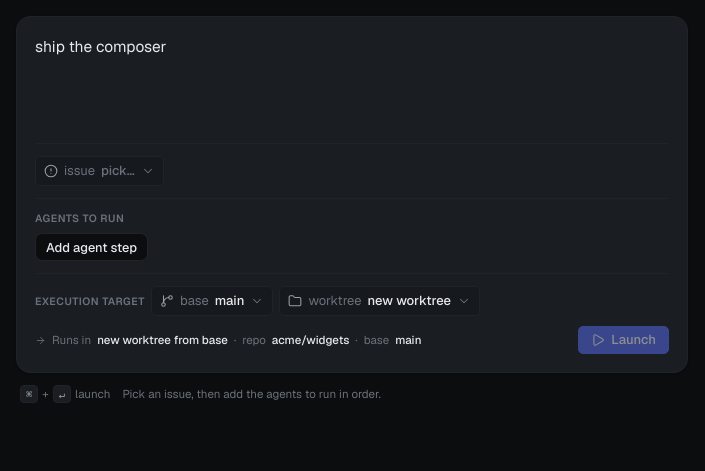
Test: LaunchComposer › reflects the override choice in the destination preview
Step 1. Click the button with aria-label "Worktree strategy: new worktree" → (380, 301), box x1=279 y1=286 x2=480 y2=316
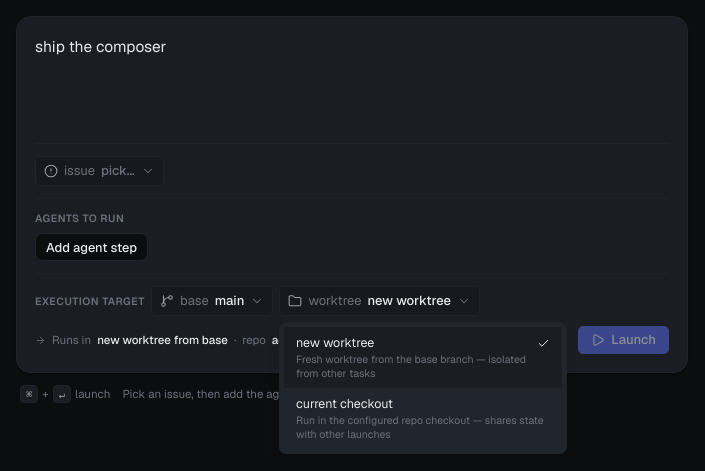
Step 2. Click the text "current checkout" → (344, 404), box x1=296 y1=395 x2=393 y2=412
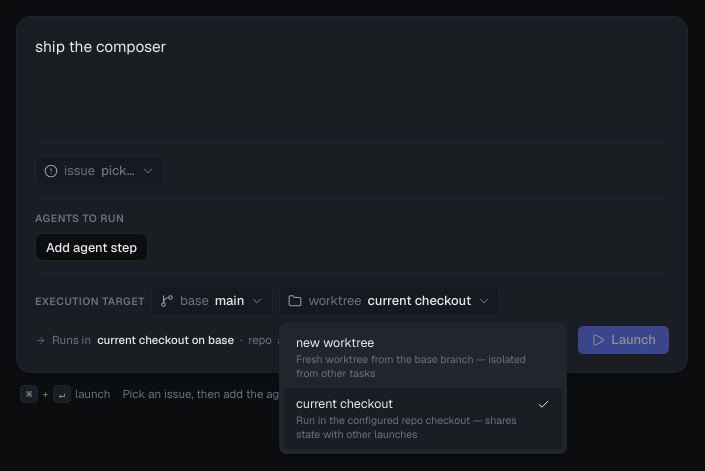
Expected: the element named "Execution destination" shows "current checkout on base", x1=97 y1=332 x2=234 y2=347
